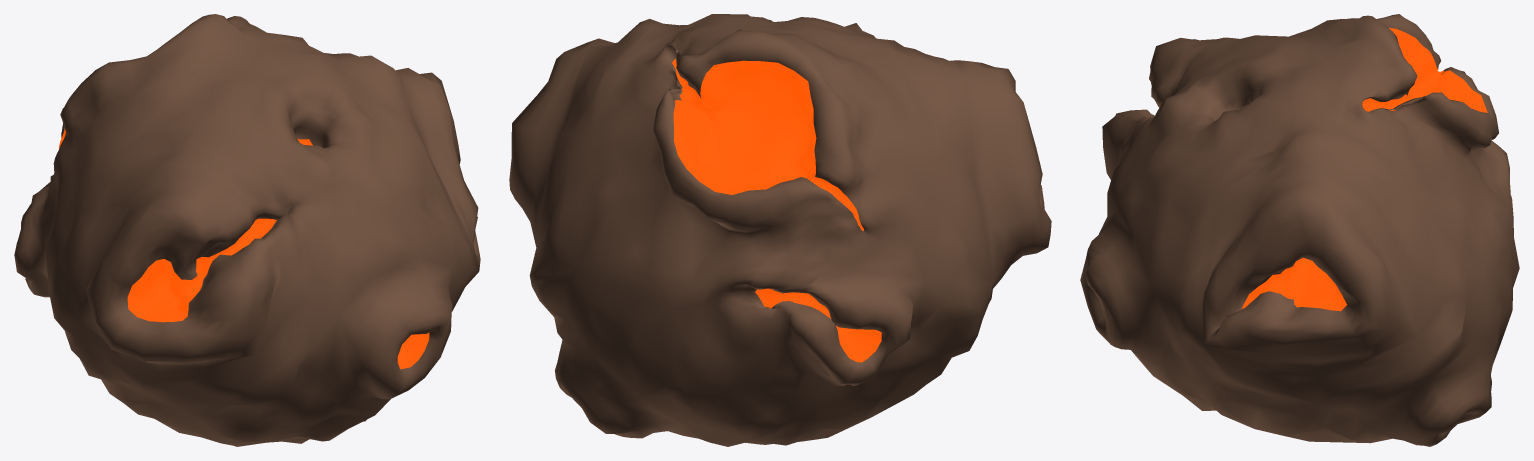
The model's file is PH_mesh_Traps_Comet.fbx.
3 views of the same model, side by side, from view 1: azimuth 30°, elevation 25°; view 2: azimuth 150°, elevation 25°; view 3: azimuth 270°, elevation 25° (orthographic). The views are drawn at different scales.
Parts seen in each view (by area): view 1: mod_Trap_Asteroid; view 2: mod_Trap_Asteroid; view 3: mod_Trap_Asteroid.
Boxes of the visible parts, x1,y1,x2,y2 form: mod_Trap_Asteroid: (14, 14, 480, 446); mod_Trap_Asteroid: (509, 14, 1051, 446); mod_Trap_Asteroid: (1080, 14, 1519, 446).
Size of the model in its own units: 311 by 280 by 285.
